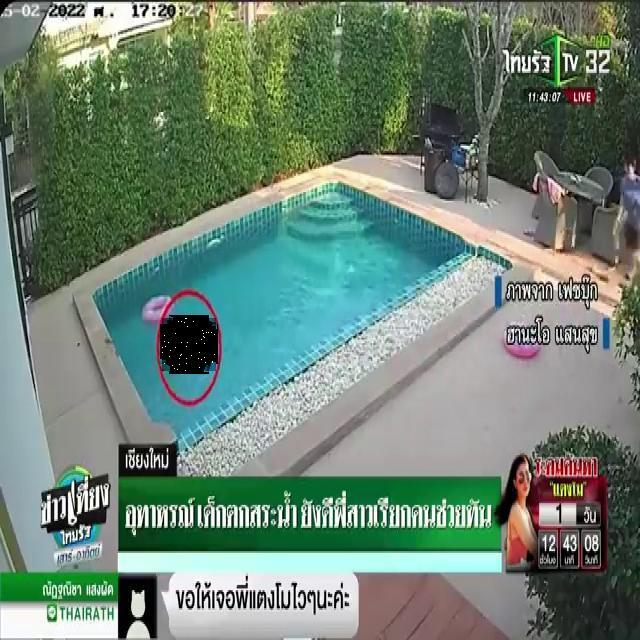Out of Water: (162, 318, 216, 371)
